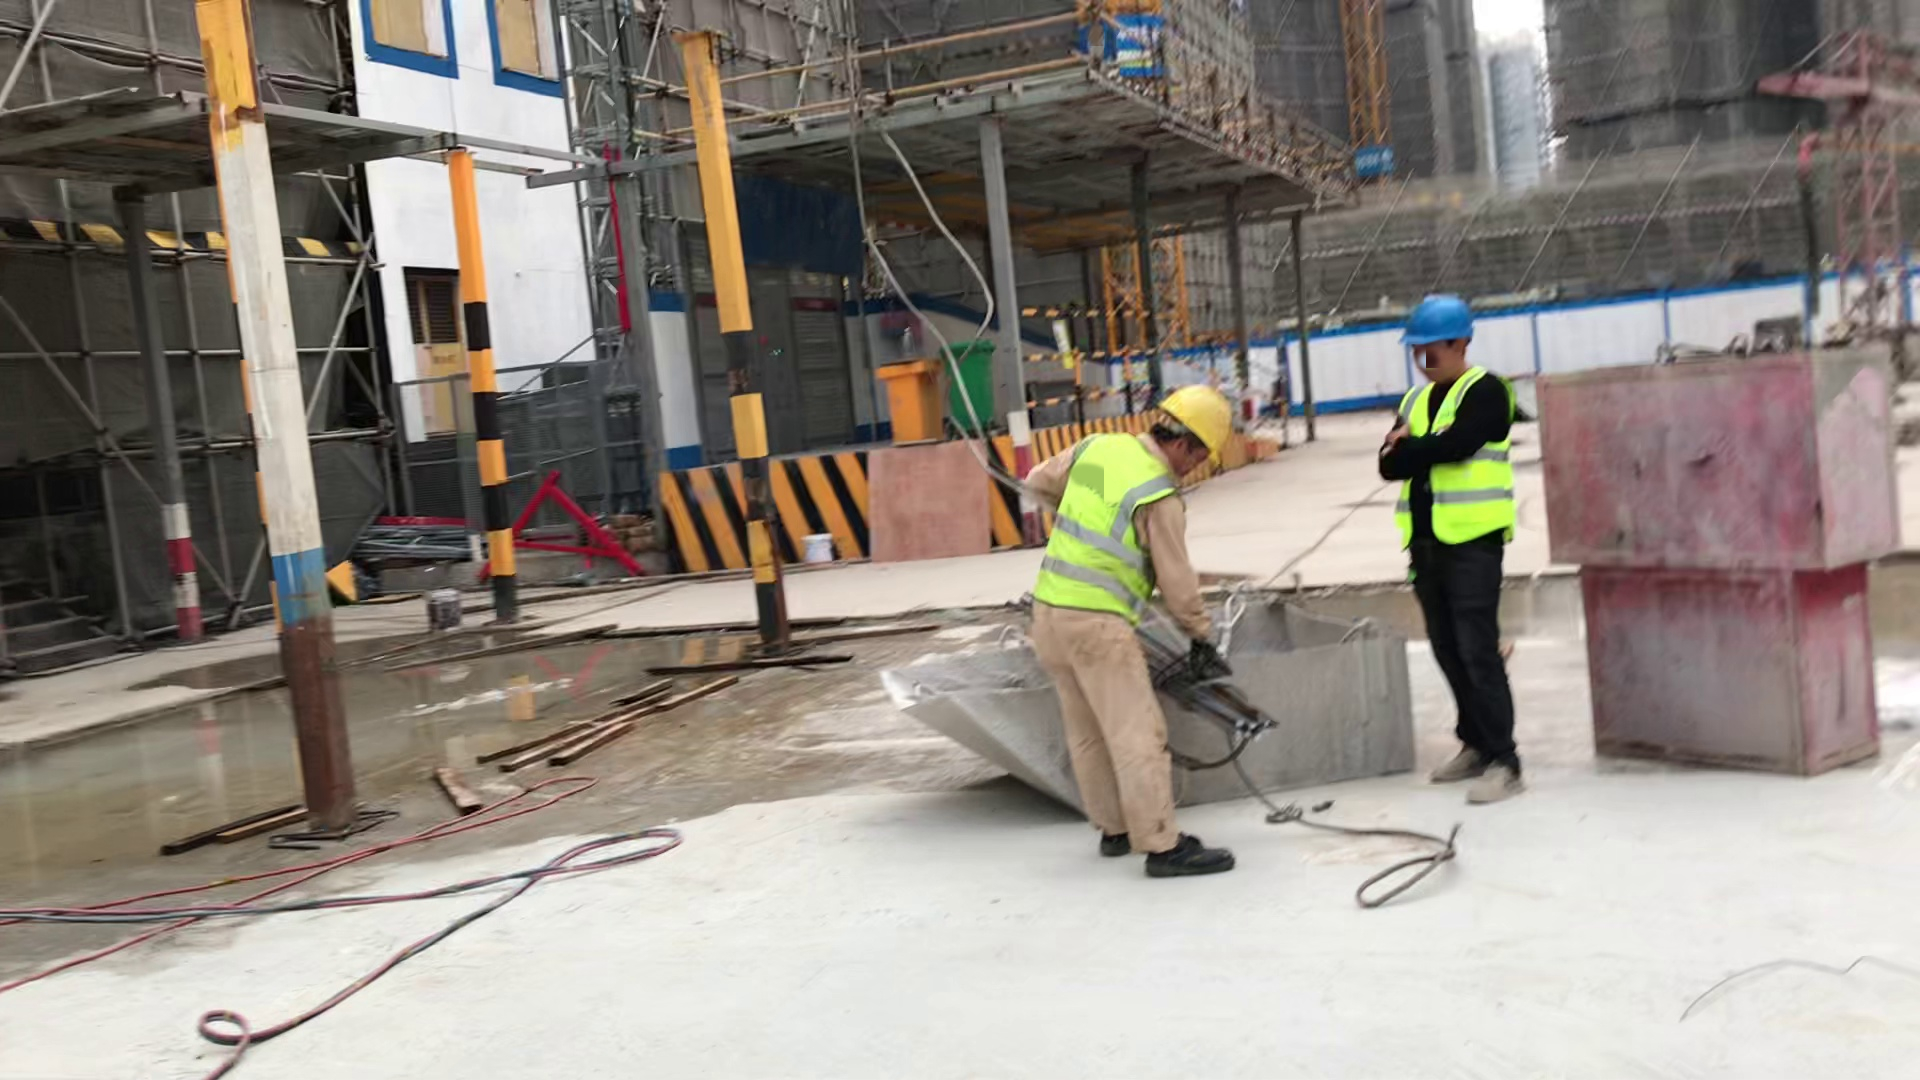fence: (1008, 289, 1307, 449)
helmet: (1155, 376, 1248, 469), (1390, 287, 1497, 349)
hopper: (865, 608, 1450, 805)
person: (1006, 381, 1270, 895), (1344, 270, 1571, 818)
rebar: (1157, 622, 1310, 776)
slogan: (1077, 14, 1176, 92), (1035, 307, 1095, 373), (1349, 132, 1414, 187)
vest: (1029, 426, 1171, 626), (1390, 373, 1534, 550)
